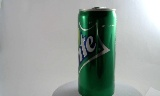sprite: (72, 6, 110, 95)
